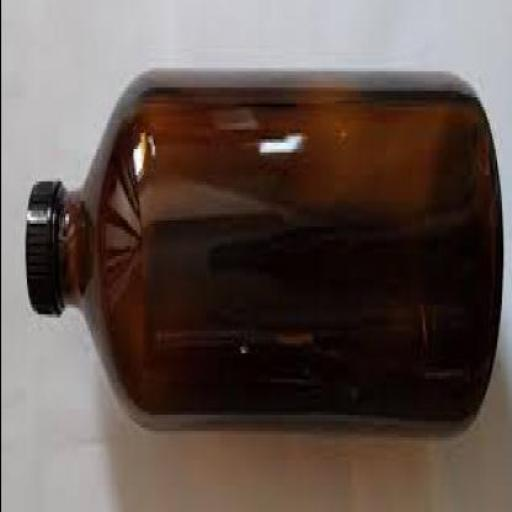glass: (53, 74, 501, 434)
plastic: (22, 181, 57, 317)
